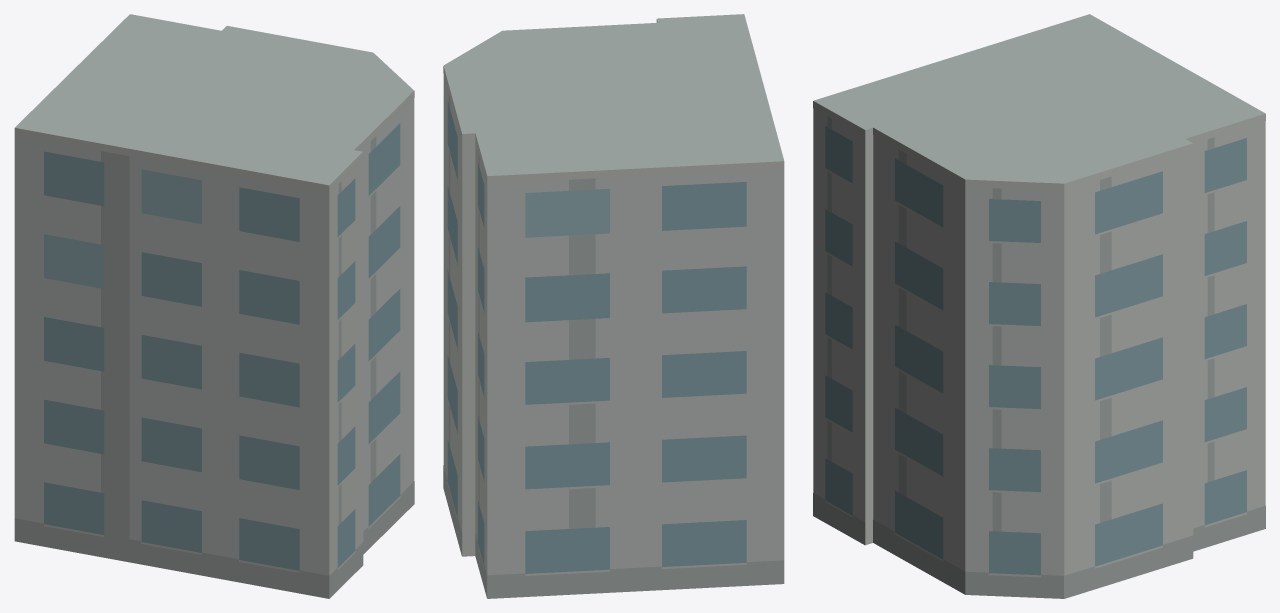
Rendered from residential-908d2afd-ea4b-464e-95a2-46ffb2c010ab.glb.
The picture shows the model from 3 angles, left to right: view 1: azimuth 30°, elevation 25°; view 2: azimuth 150°, elevation 25°; view 3: azimuth 270°, elevation 25°; orthographic projection. The views are drawn at different scales.
Visible parts, largest first — view 1: residential-908d2afd-ea4b-464e-95a2-46ffb2c010ab.tmp; view 2: residential-908d2afd-ea4b-464e-95a2-46ffb2c010ab.tmp; view 3: residential-908d2afd-ea4b-464e-95a2-46ffb2c010ab.tmp.
Part boxes in pixels (x1,y1,x2,y2): residential-908d2afd-ea4b-464e-95a2-46ffb2c010ab.tmp: (14, 14, 414, 598); residential-908d2afd-ea4b-464e-95a2-46ffb2c010ab.tmp: (443, 14, 784, 598); residential-908d2afd-ea4b-464e-95a2-46ffb2c010ab.tmp: (813, 14, 1265, 598).
Size of the model in its own units: 11.83 by 13.5 by 13.35.
